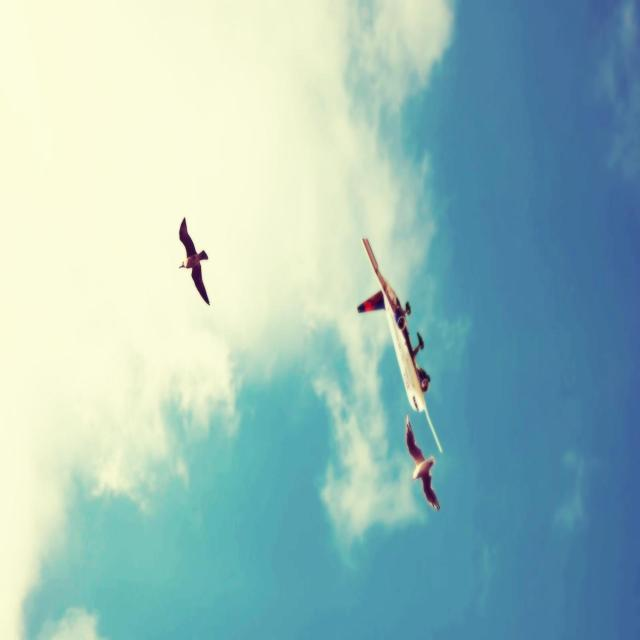airplane: (357, 236, 442, 453)
